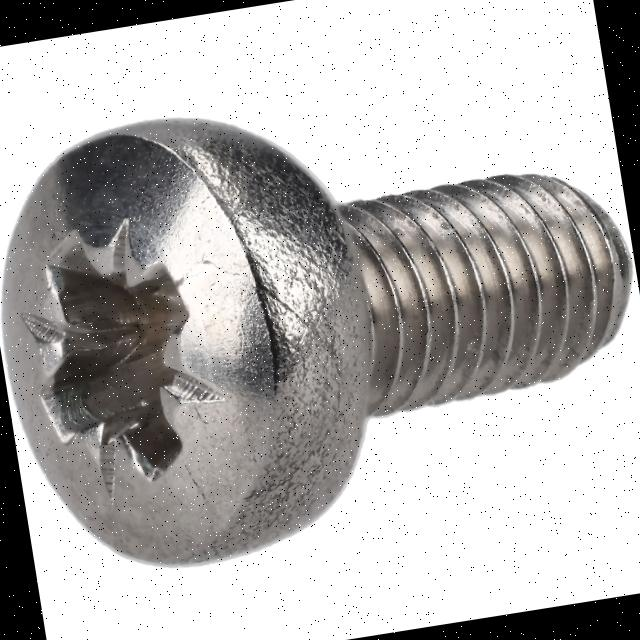Pozidriv: (0, 105, 314, 585)
